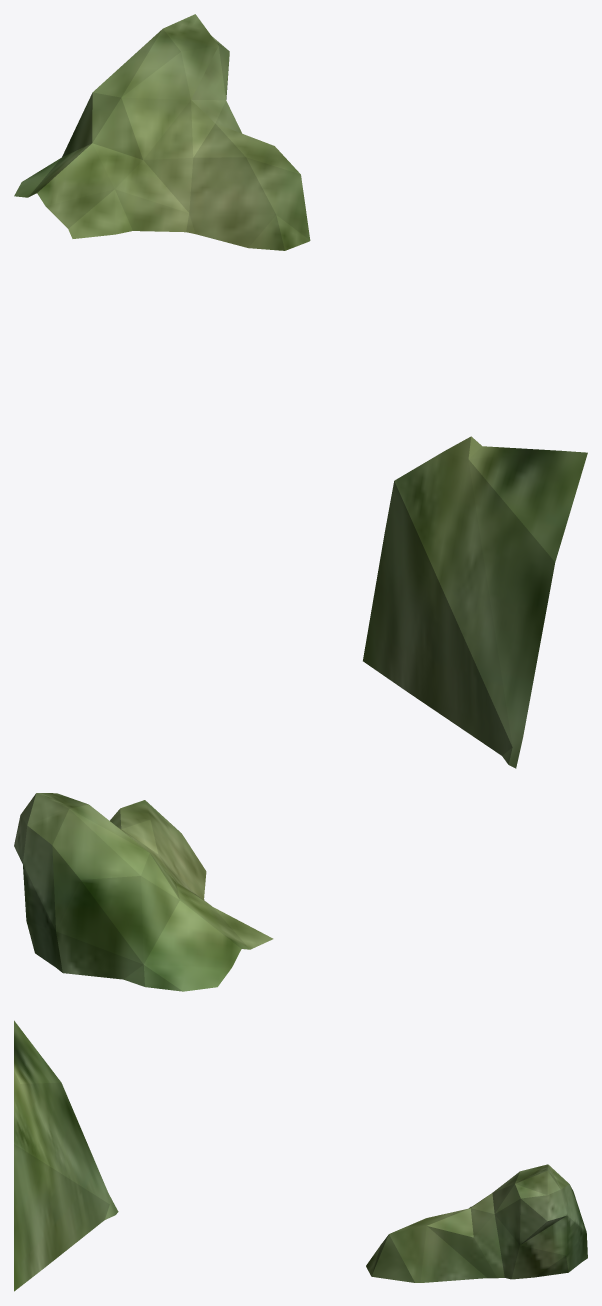
The picture shows the model from 3 angles, top to bottom: view 1: azimuth 30°, elevation 25°; view 2: azimuth 150°, elevation 25°; view 3: azimuth 270°, elevation 25°; orthographic projection. The views are drawn at different scales.
Bounding box in the file's own units: 0.5579 × 0.6236 × 1.69.
Materials: 1 (1 with a texture image).
